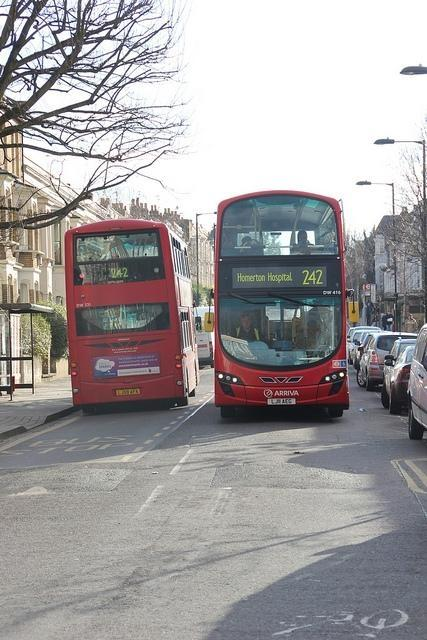bus: (206, 188, 343, 414), (68, 220, 200, 411)
car: (354, 331, 418, 392), (379, 346, 416, 416), (405, 327, 427, 440), (382, 338, 417, 381), (194, 305, 215, 369), (355, 330, 387, 363), (348, 330, 364, 364), (346, 326, 381, 339)
